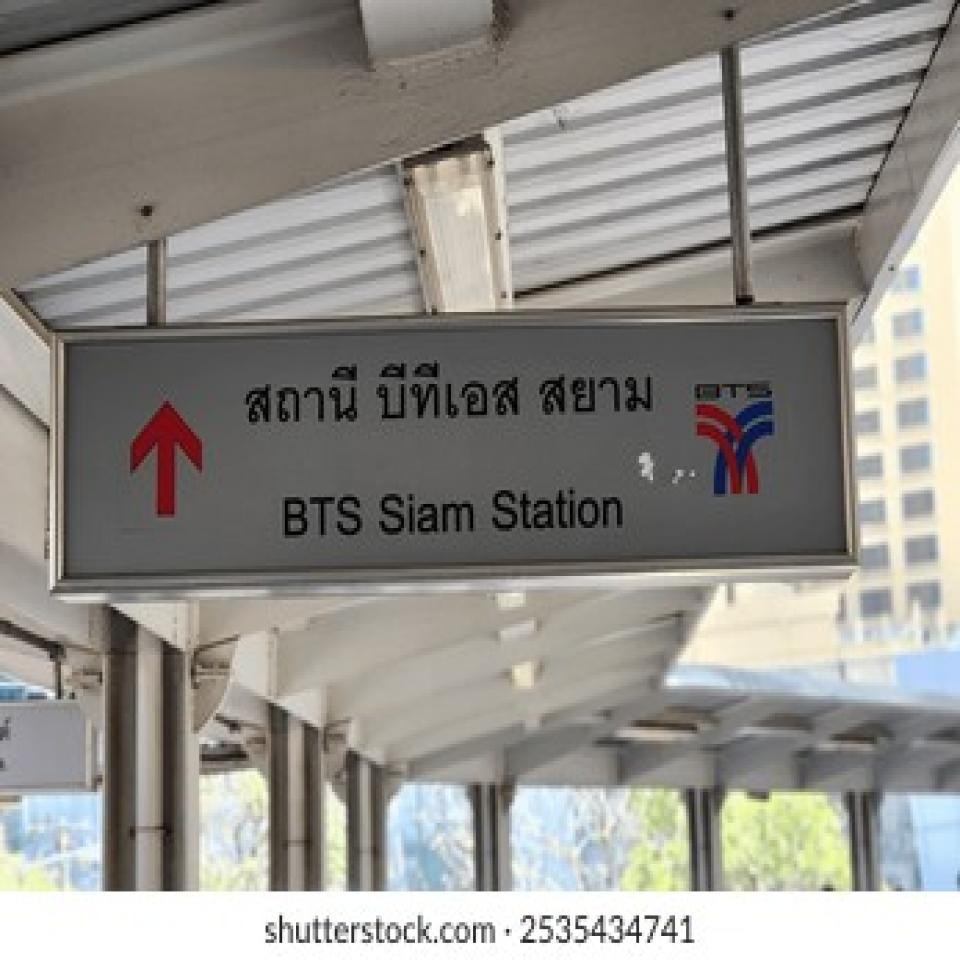Siam: (242, 358, 778, 540)
